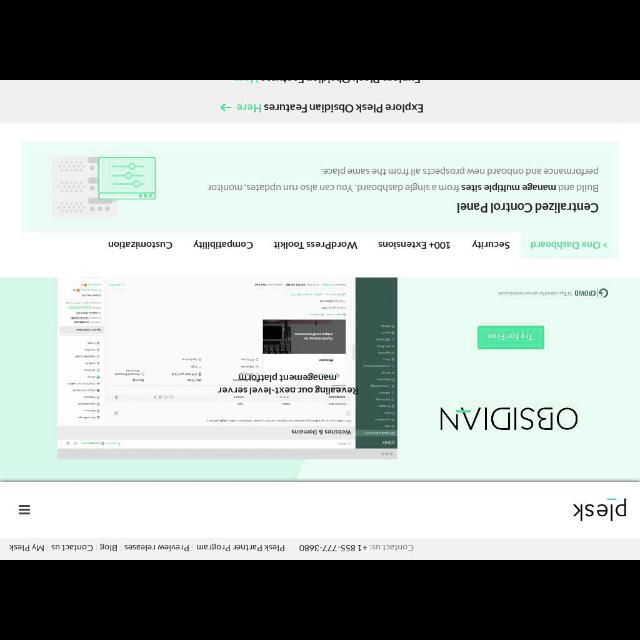icon: (19, 503, 31, 515), (220, 103, 230, 111)
image: (56, 276, 398, 458), (52, 153, 156, 214), (438, 406, 580, 432), (572, 496, 628, 520)
multitab: (1, 538, 639, 560), (24, 234, 616, 256)
text: (208, 167, 598, 193), (264, 102, 424, 115), (456, 200, 598, 214), (300, 540, 414, 554), (198, 540, 286, 554), (274, 239, 358, 249), (124, 541, 190, 553), (378, 239, 450, 249), (108, 240, 172, 250), (192, 241, 254, 251), (530, 241, 600, 249), (498, 290, 572, 296), (471, 240, 512, 250), (10, 542, 44, 552), (51, 543, 93, 551), (574, 288, 596, 298), (238, 104, 262, 112), (98, 542, 120, 550)
textbutton: (478, 327, 544, 349)
toolbar: (1, 481, 639, 537)
